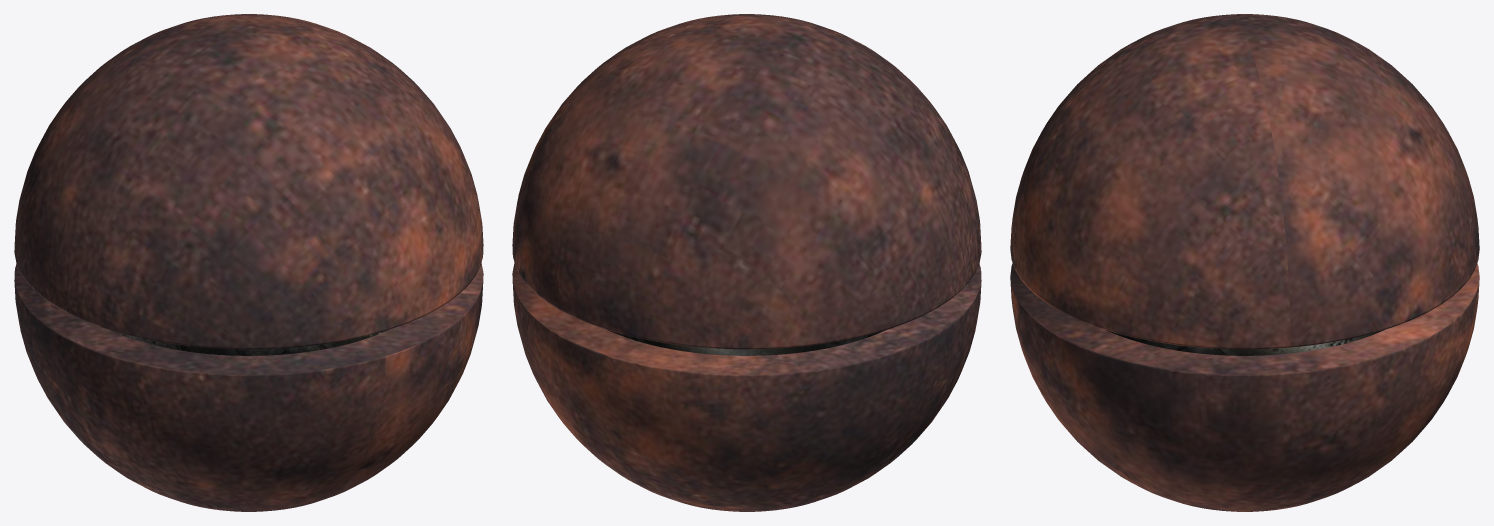
Rendered from droid_anim_000001.obj.
3 renders of one model, left to right at view 1: azimuth 30°, elevation 25°; view 2: azimuth 150°, elevation 25°; view 3: azimuth 270°, elevation 25°, orthographic.
Visible parts, largest first — view 1: Sphere.004, Sphere.005, Cylinder.002; view 2: Sphere.004, Sphere.005, Cylinder.002; view 3: Sphere.004, Sphere.005, Cylinder.002.
Boxes of the visible parts, x1,y1,x2,y2 form: Sphere.004: (14,14,483,349); Sphere.005: (14,263,483,511); Cylinder.002: (110,330,387,355); Sphere.004: (512,14,981,349); Sphere.005: (512,263,981,511); Cylinder.002: (608,330,885,355); Sphere.004: (1010,14,1479,349); Sphere.005: (1010,263,1479,511); Cylinder.002: (1106,330,1383,355).
Size of the model in its own units: 2 by 2.14 by 2.
Materials: 3 (3 with a texture image).
